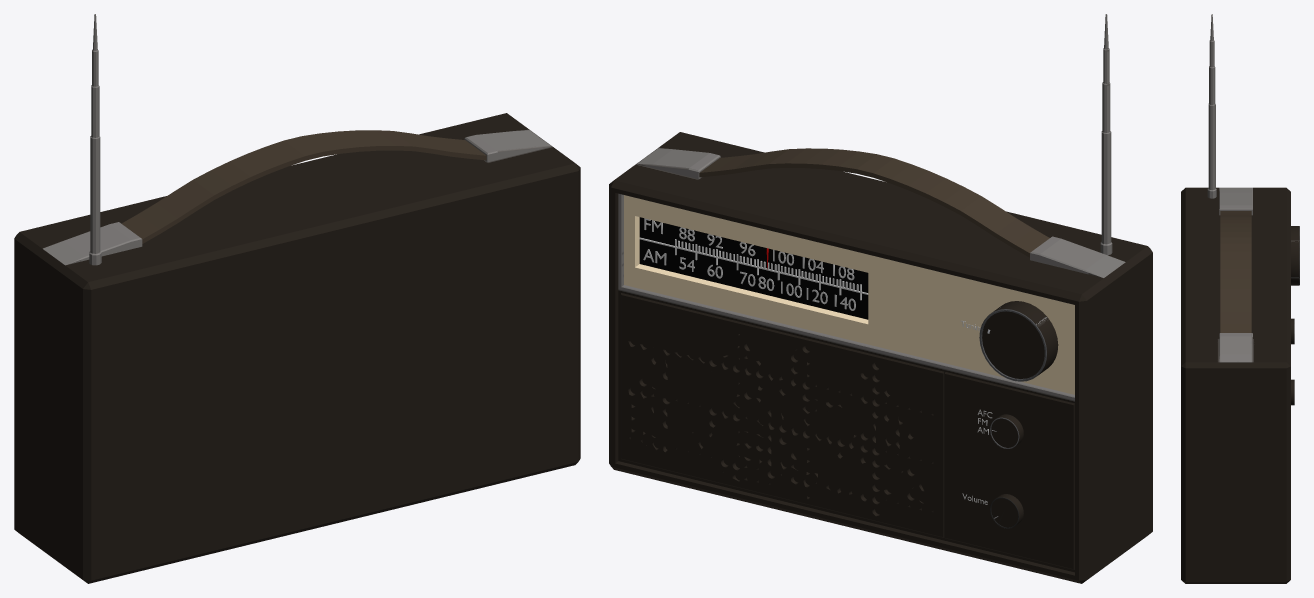
Rendered from Radio.fbx.
3 views of the same model, side by side, from view 1: azimuth 30°, elevation 25°; view 2: azimuth 150°, elevation 25°; view 3: azimuth 270°, elevation 25° (orthographic). The views are drawn at different scales.
Visible parts, largest first — view 1: Radio; view 2: Radio, Tuningknob, Readings, Scale, VolumeKnob, AFCKnob; view 3: Radio, Tuningknob.
Boxes of the visible parts, box(x1,y1,x2,y2) form: Radio: box(14, 14, 580, 583); Radio: box(609, 14, 1152, 583); Tuningknob: box(979, 301, 1058, 381); Readings: box(643, 218, 855, 310); Scale: box(639, 237, 868, 300); VolumeKnob: box(990, 494, 1023, 528); AFCKnob: box(990, 414, 1023, 448); Radio: box(1181, 14, 1290, 583); Tuningknob: box(1291, 226, 1299, 285).
Bounding box in the file's own units: 302 × 319 × 85.02.
